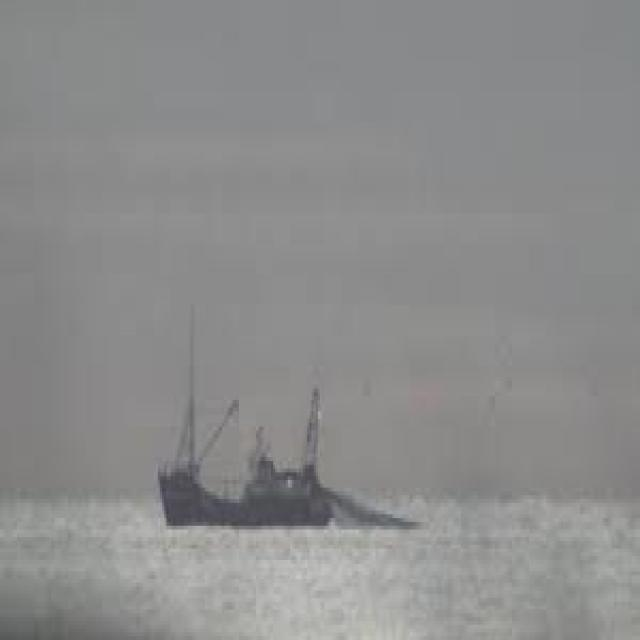fishing boat: (156, 302, 353, 540)
